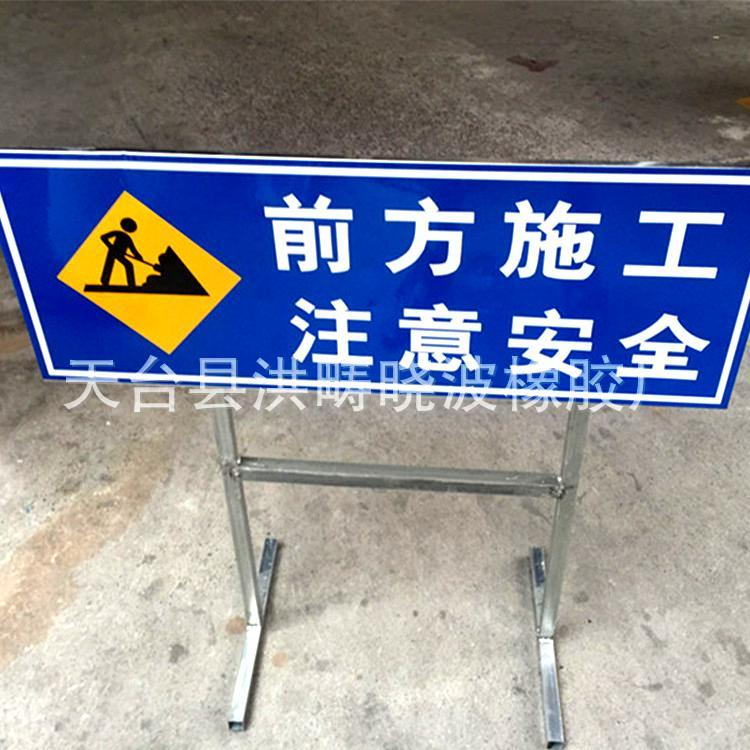sign: (6, 149, 746, 420)
